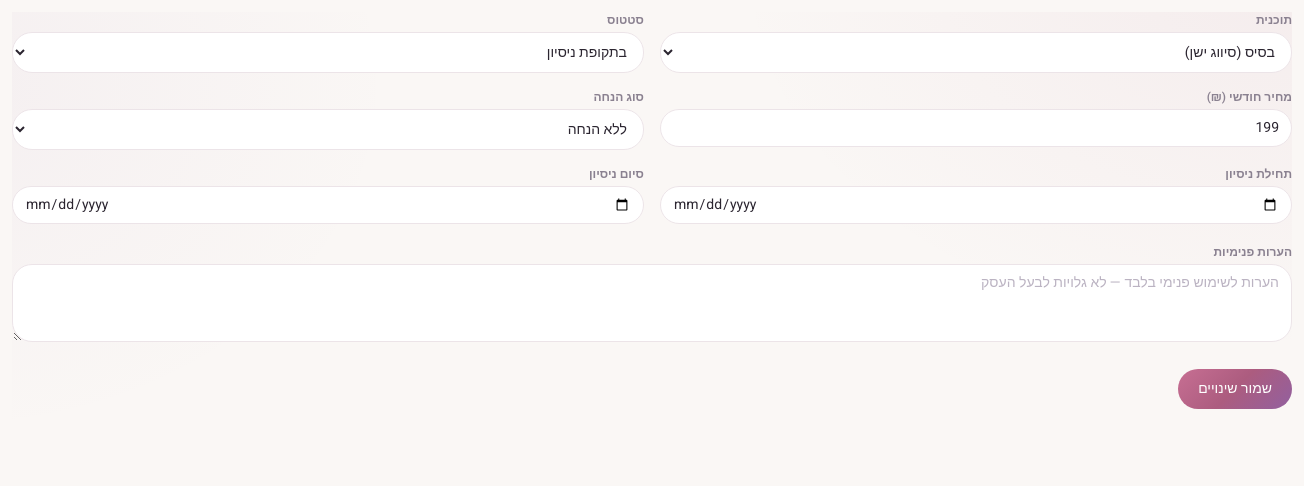
Test: SubscriptionForm › submits the form values to the action and shows the success message
The width and height of the screenshot is (1304, 486).
Click the button "שמור שינויים" at (1235, 389), box [1178,369,1292,409]
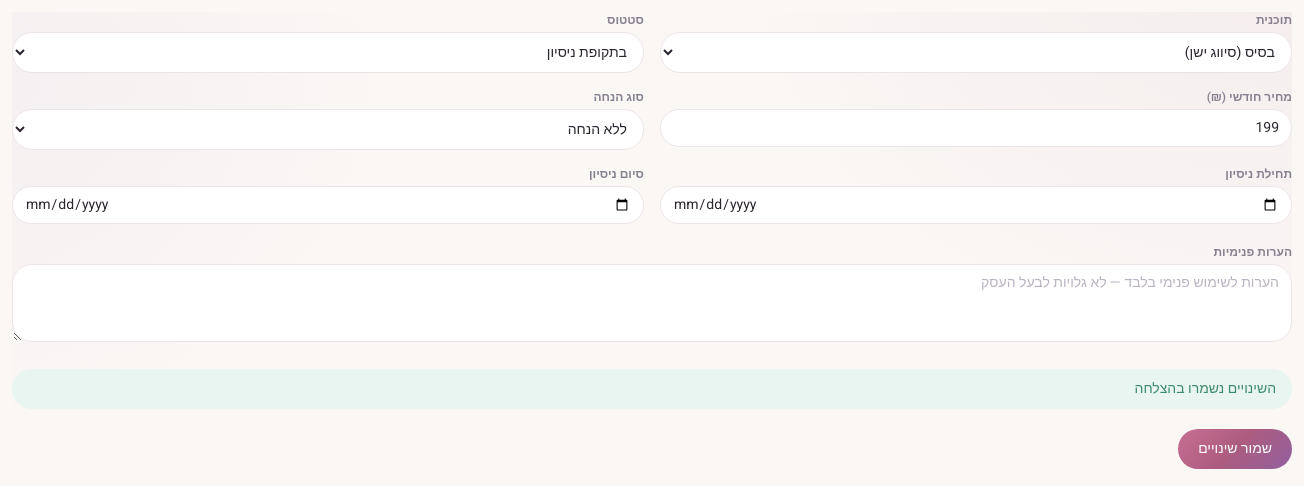
Check: the text "השינויים נשמרו בהצלחה" is shown, box [12,369,1292,409]
